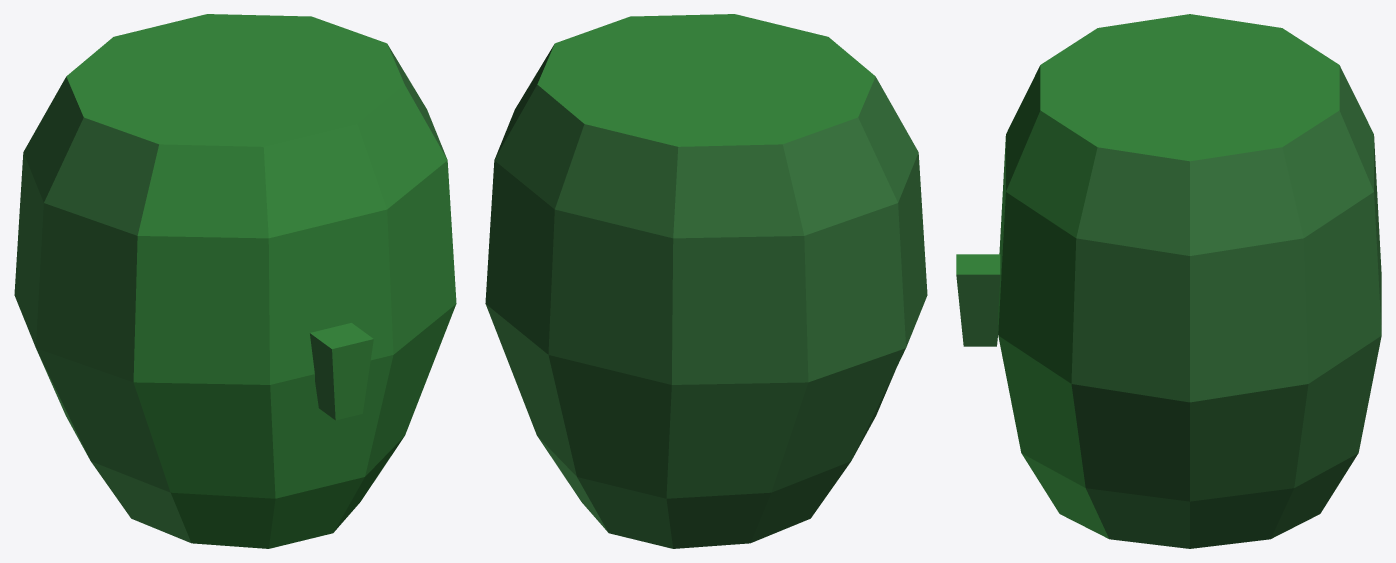
File: wk_head_long_v01.glb
3 renders of one model, left to right at view 1: azimuth 30°, elevation 25°; view 2: azimuth 150°, elevation 25°; view 3: azimuth 270°, elevation 25°, orthographic.
Visible parts, largest first — view 1: GEO_Head_long_Shell, GEO_Head_long_Nose; view 2: GEO_Head_long_Shell; view 3: GEO_Head_long_Shell, GEO_Head_long_Nose.
Part boxes in pixels (x1,y1,x2,y2): GEO_Head_long_Shell: (14, 14, 456, 548); GEO_Head_long_Nose: (310, 323, 373, 420); GEO_Head_long_Shell: (485, 14, 927, 548); GEO_Head_long_Shell: (998, 14, 1381, 548); GEO_Head_long_Nose: (956, 254, 1000, 346).
Size of the model in its own units: 0.248 by 0.245 by 0.23.
